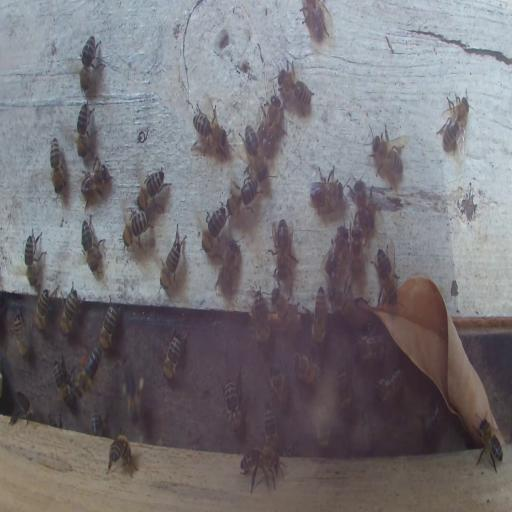nonpollenbee: (364, 124, 406, 185), (238, 446, 288, 493), (435, 92, 472, 153), (191, 99, 228, 158), (270, 218, 298, 287), (309, 166, 344, 216), (371, 246, 399, 308), (279, 58, 313, 108), (136, 168, 171, 216), (473, 417, 503, 473), (214, 238, 242, 295), (270, 289, 301, 340), (158, 236, 186, 292), (80, 156, 113, 202), (201, 196, 228, 252), (78, 34, 104, 92), (80, 216, 104, 278), (223, 369, 245, 435), (106, 432, 138, 477), (260, 90, 282, 155), (352, 177, 376, 235), (328, 281, 357, 329), (24, 229, 46, 288), (320, 227, 348, 273), (54, 353, 76, 411), (301, 0, 331, 42), (75, 99, 96, 159), (334, 358, 354, 419), (271, 360, 292, 418), (244, 126, 267, 178), (372, 367, 405, 403), (225, 179, 258, 214), (123, 209, 154, 246), (161, 328, 183, 380), (252, 286, 271, 345), (354, 333, 386, 368), (98, 298, 119, 351), (60, 282, 80, 336), (293, 350, 321, 388), (312, 286, 327, 347), (350, 213, 364, 276), (315, 405, 332, 454), (50, 136, 64, 194), (14, 308, 28, 359), (264, 401, 279, 448), (35, 286, 50, 331), (14, 391, 32, 420), (90, 412, 104, 436)
pollenbee: (74, 344, 103, 400), (122, 363, 145, 429)
